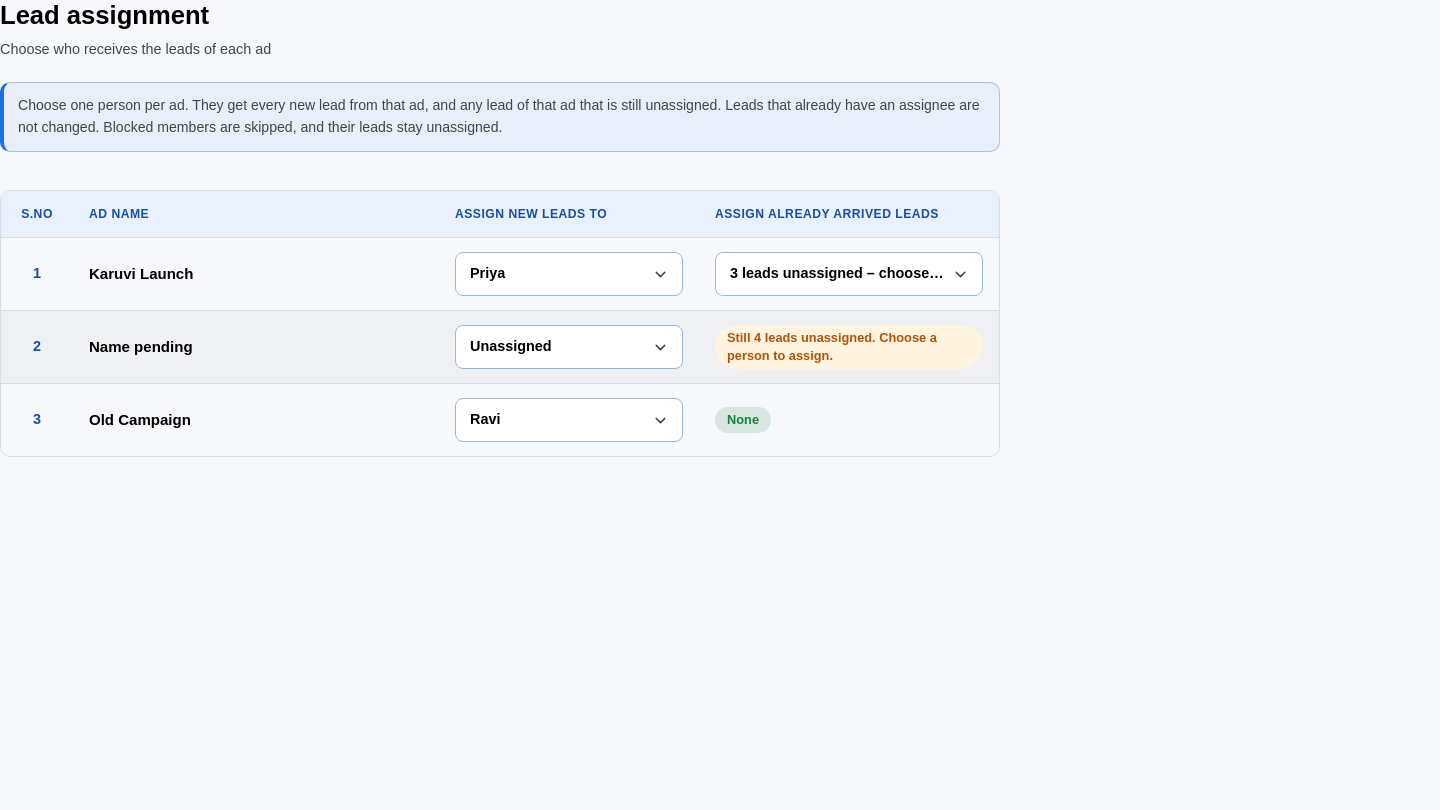
AdAssignmentSection › does nothing and keeps the old person when the owner cancels or presses Escape
Expected: the text "Karuvi Launch" is shown, left=89, top=265, right=193, bottom=282
Select "Ravi" in the dropdown named "new leads of": [569, 274] box left=455, top=252, right=683, bottom=296
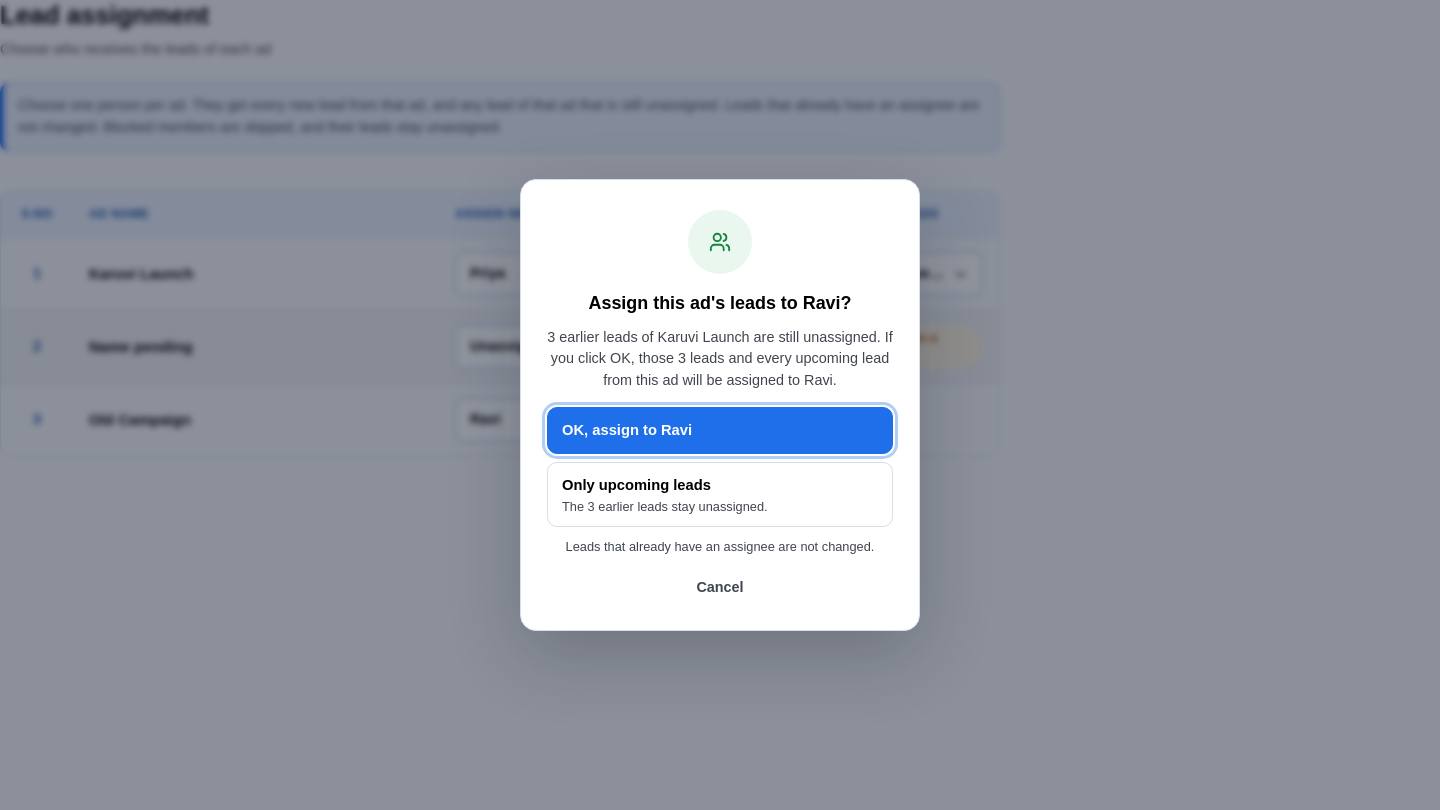
Click the button "Cancel": [720, 588] box left=682, top=569, right=758, bottom=606
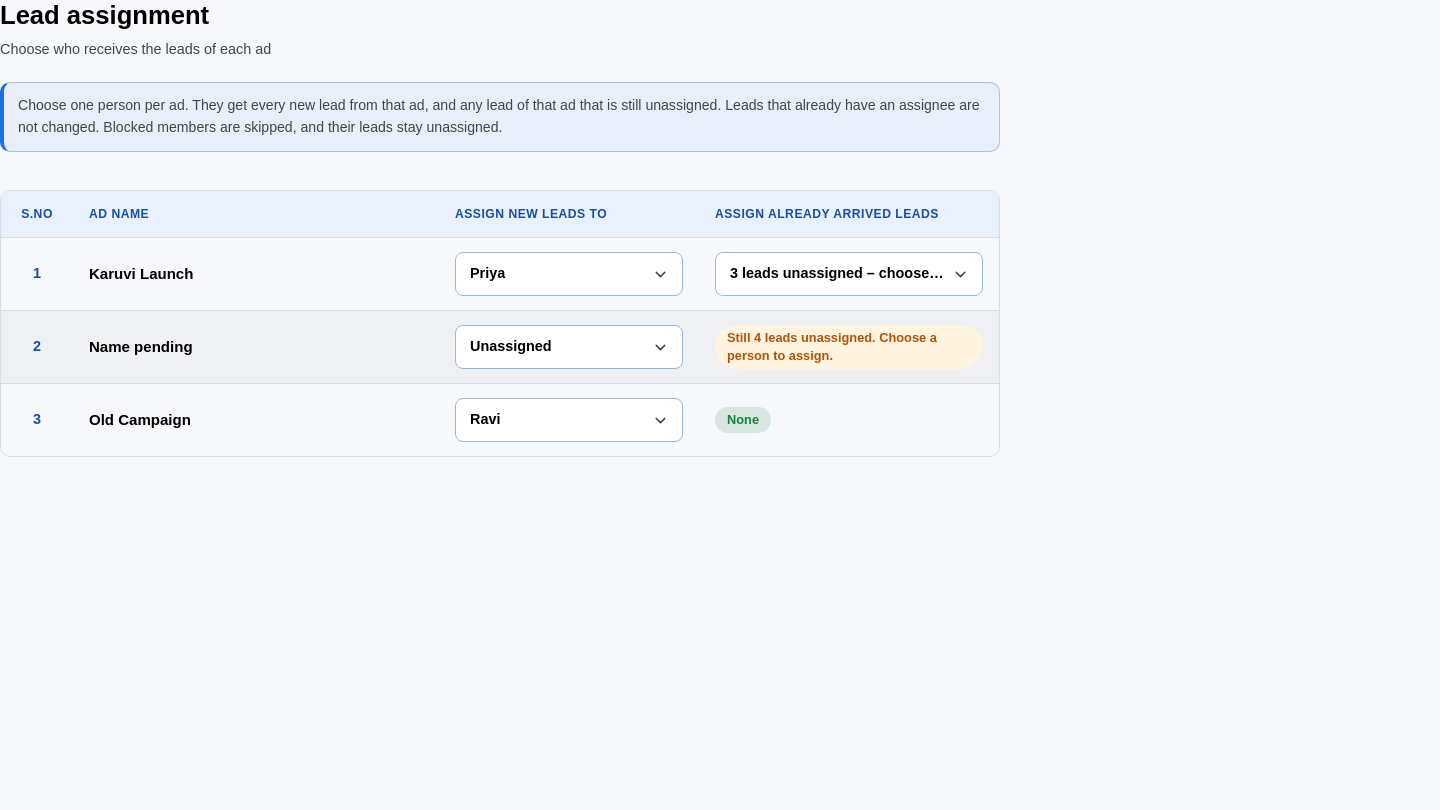
Now the dialog is gone
Select "Ravi" in the dropdown named "new leads of": [569, 274] box left=455, top=252, right=683, bottom=296
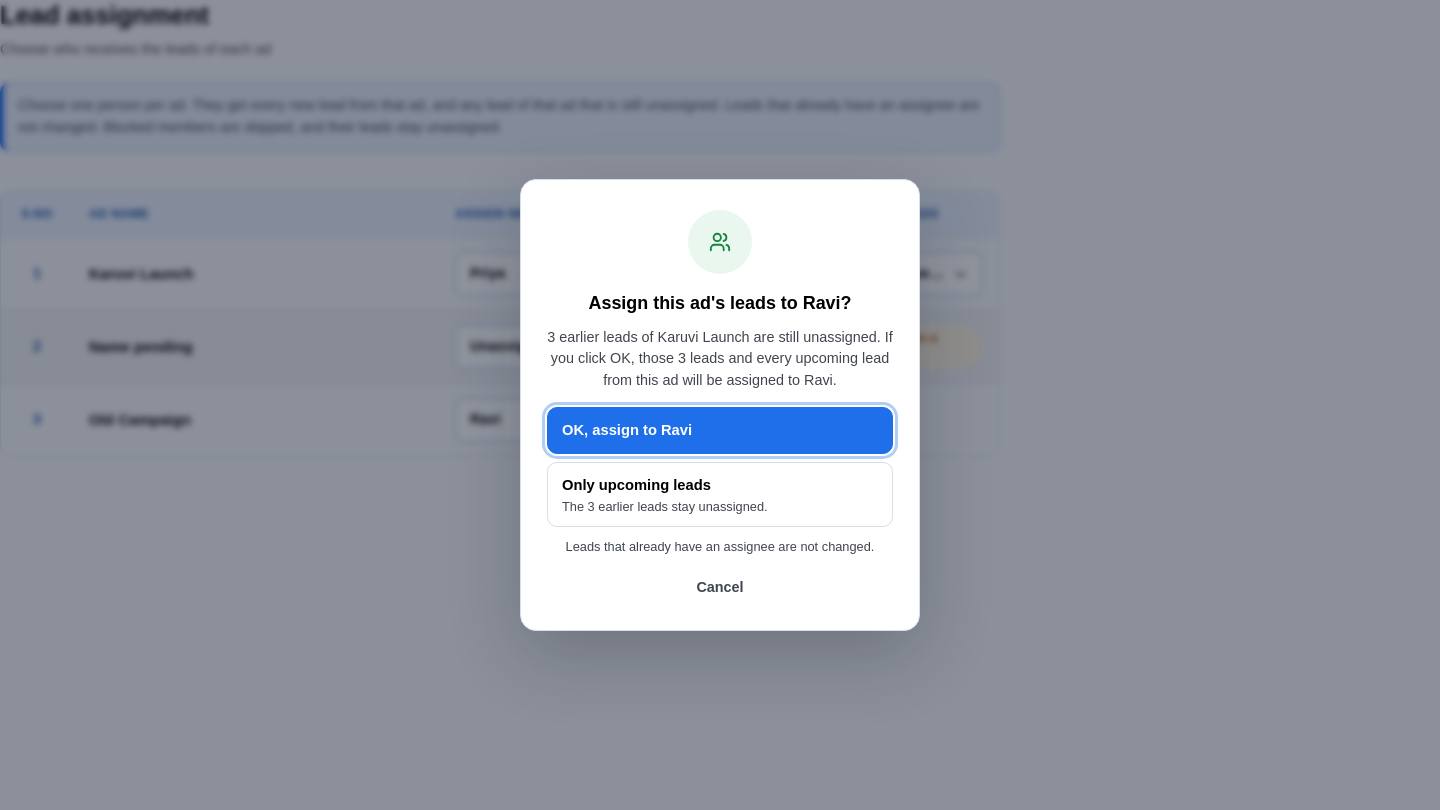
Press Escape in the dialog, box left=520, top=179, right=920, bottom=631
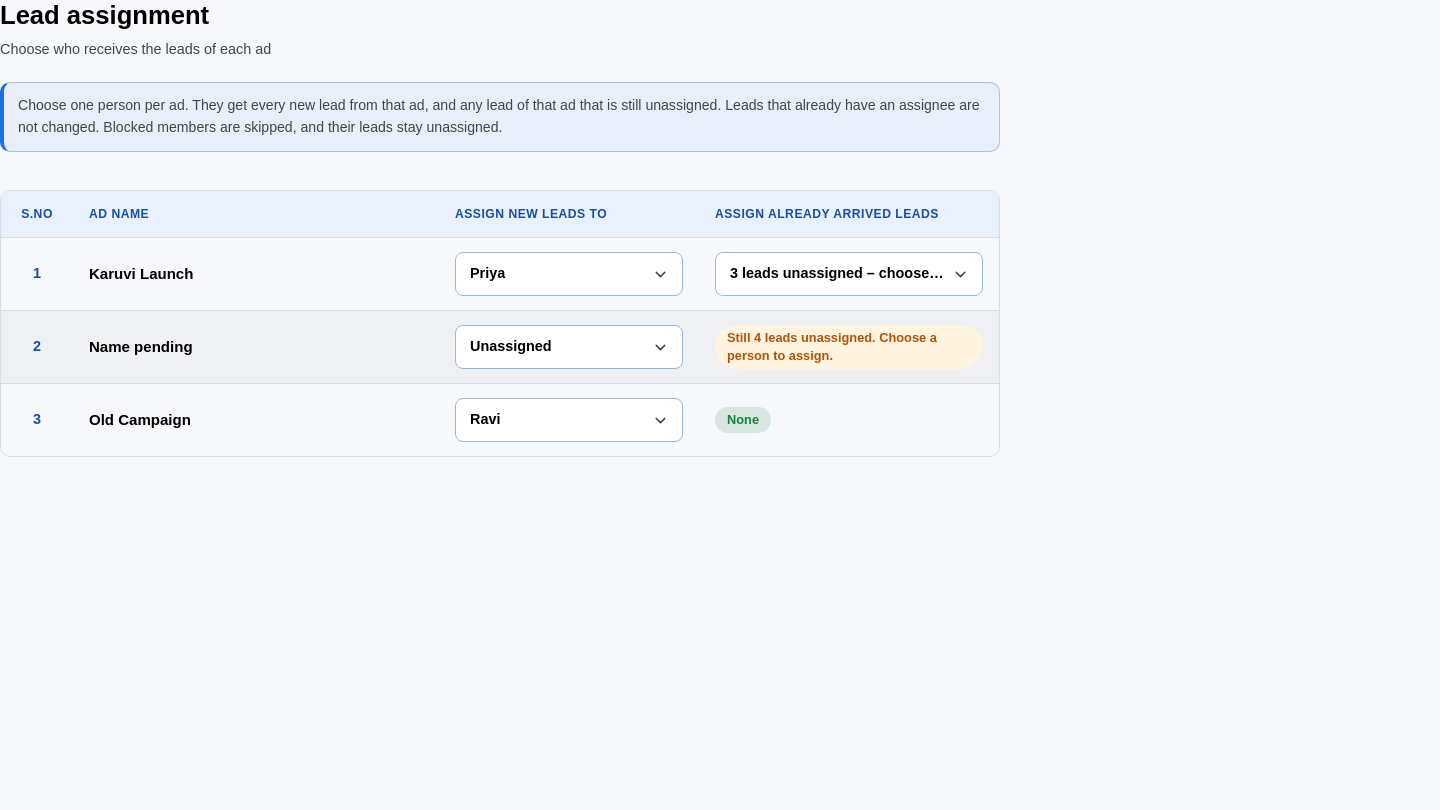
Now the dialog is gone
